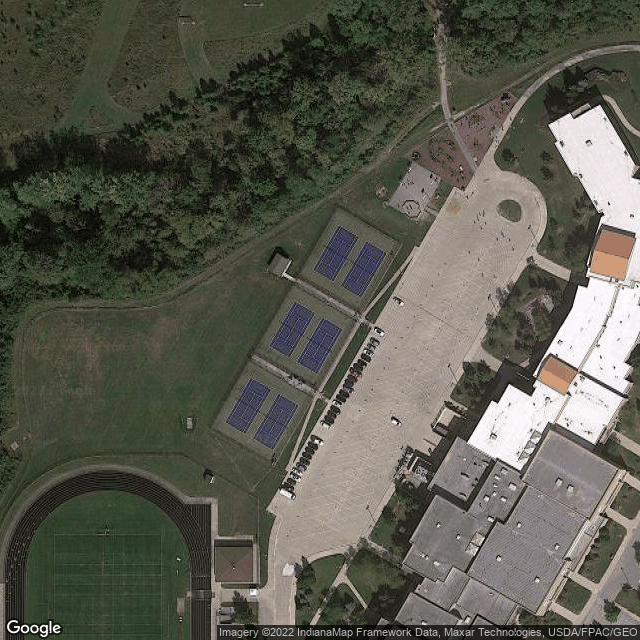Court: (268, 302, 315, 357), (252, 395, 299, 450), (313, 224, 357, 282), (341, 242, 388, 296), (297, 319, 343, 374), (226, 379, 271, 433)
